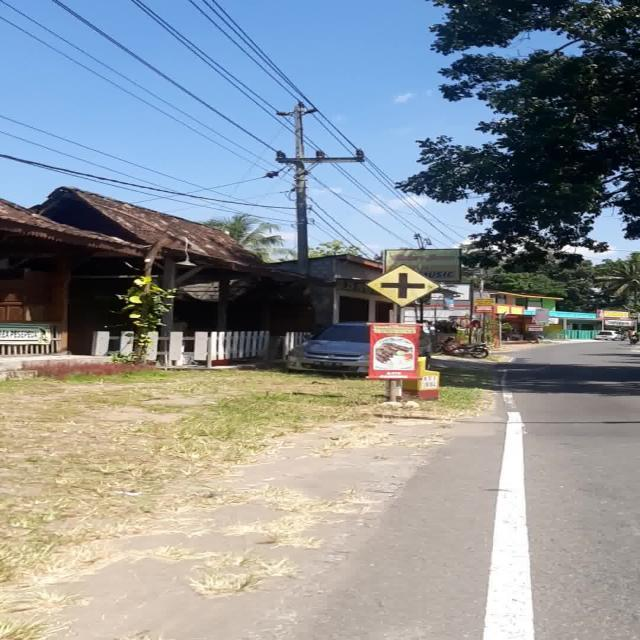Persimpangan 4: (365, 264, 440, 307)
